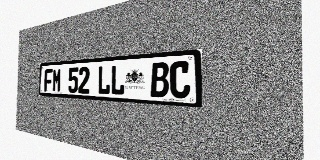2: (78, 66, 90, 94)
5: (68, 67, 79, 93)
B: (151, 62, 169, 98)
C: (170, 61, 190, 99)
F: (44, 69, 53, 92)
L: (111, 64, 125, 95), (97, 65, 111, 95)
M: (52, 68, 61, 92)
